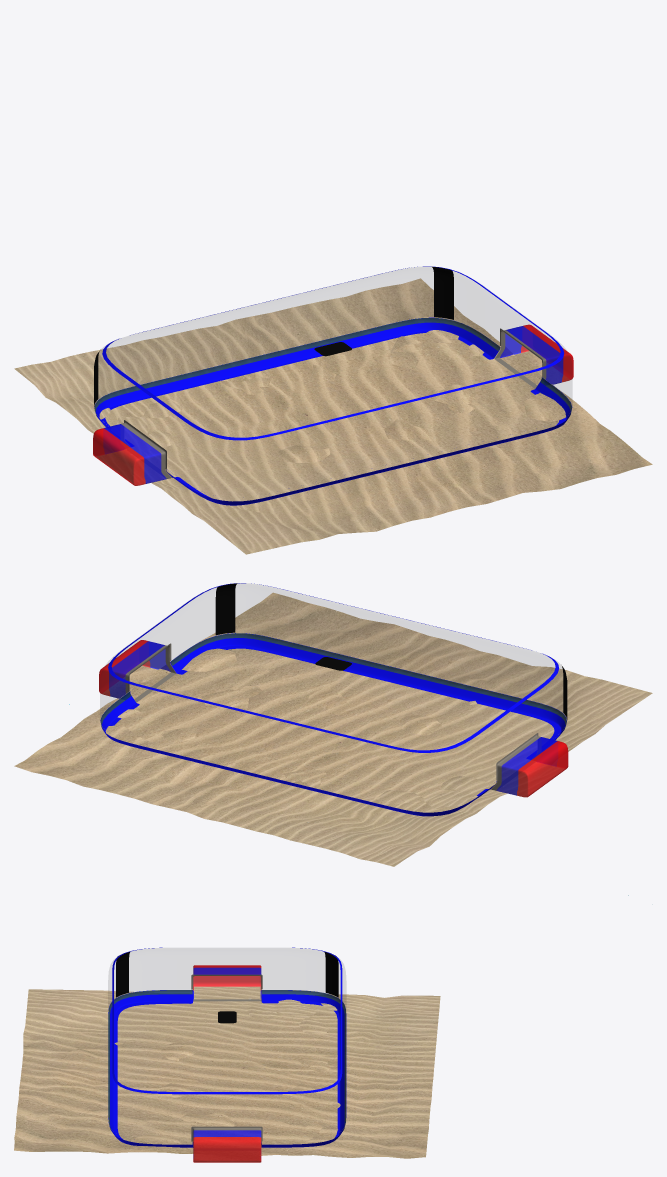
Rendered from estadio_com_areia.obj.
3 views of the same model, one above another, from view 1: azimuth 30°, elevation 25°; view 2: azimuth 150°, elevation 25°; view 3: azimuth 270°, elevation 25° (orthographic). The views are drawn at different scales.
Parts seen in each view (by area): view 1: Plane, polySurface3408, walls/roof, Baliza, Cantos; view 2: Plane, polySurface3408, walls/roof, Baliza, Cantos; view 3: Plane, polySurface3408, walls/roof, Baliza, Cantos.
Boxes of the visible parts, bbox=[...] form: Plane: bbox=[14, 278, 652, 554]; polySurface3408: bbox=[94, 266, 572, 505]; walls/roof: bbox=[99, 267, 571, 401]; Baliza: bbox=[93, 324, 573, 485]; Cantos: bbox=[94, 266, 453, 406]; Plane: bbox=[14, 592, 652, 866]; polySurface3408: bbox=[100, 583, 566, 816]; walls/roof: bbox=[100, 584, 562, 716]; Baliza: bbox=[99, 640, 568, 797]; Cantos: bbox=[215, 583, 567, 719]; Plane: bbox=[14, 989, 440, 1158]; polySurface3408: bbox=[108, 947, 346, 1147]; walls/roof: bbox=[108, 948, 345, 1006]; Baliza: bbox=[191, 965, 262, 1162]; Cantos: bbox=[116, 951, 338, 997].
Bounding box in the file's own units: 2.98 × 1.44 × 4.52.
